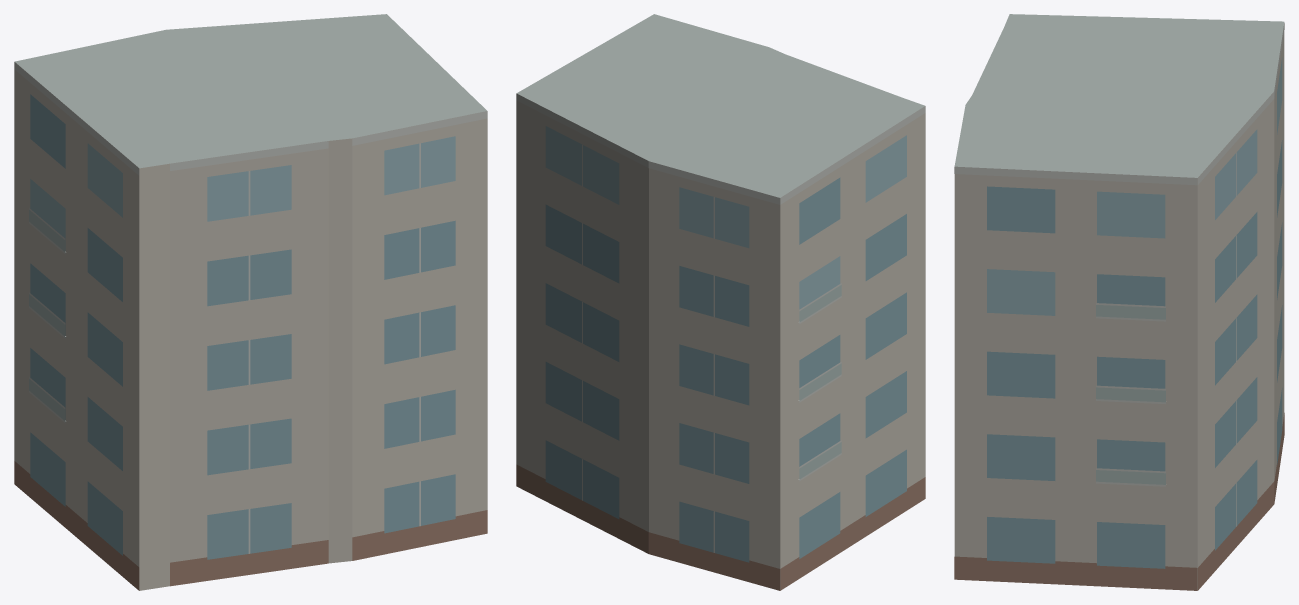
Rendered from survey-upis-32690351.glb.
3 views of the same model, side by side, from view 1: azimuth 30°, elevation 25°; view 2: azimuth 150°, elevation 25°; view 3: azimuth 270°, elevation 25° (orthographic). The views are drawn at different scales.
Visible parts, largest first — view 1: survey-upis-32690351.tmp; view 2: survey-upis-32690351.tmp; view 3: survey-upis-32690351.tmp.
Boxes of the visible parts, box(x1,y1,x2,y2) form: survey-upis-32690351.tmp: box(14, 14, 487, 590); survey-upis-32690351.tmp: box(516, 14, 925, 590); survey-upis-32690351.tmp: box(954, 14, 1284, 590).
Bounding box in the file's own units: 11.67 × 13.7 × 9.93.
